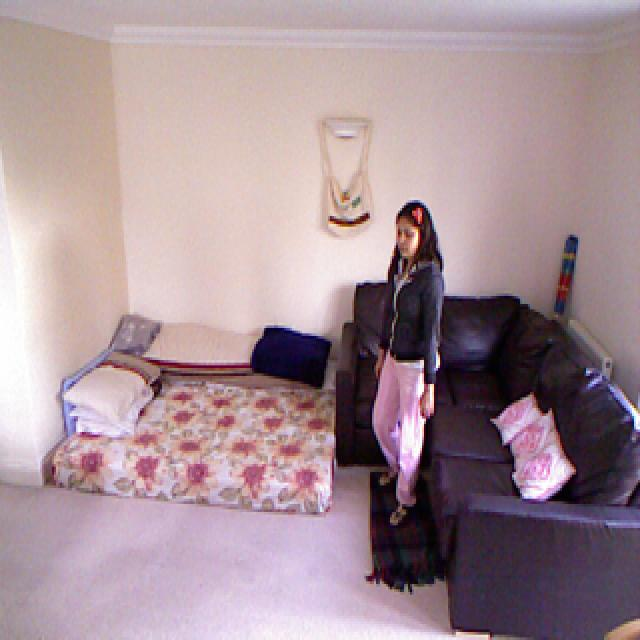standing: (366, 184, 445, 519)
